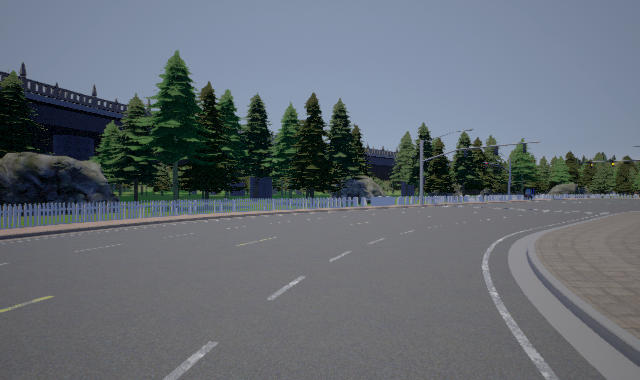traffic_light: (590, 162, 593, 168), (612, 161, 615, 167)
